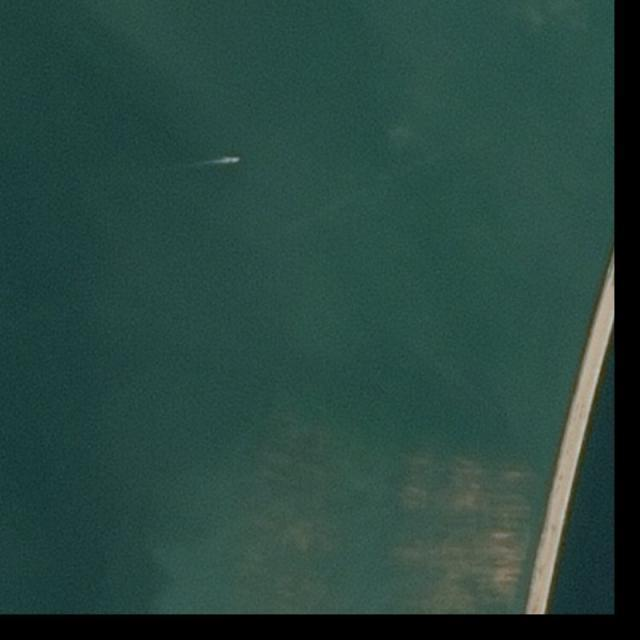ship: (230, 156, 241, 163)
